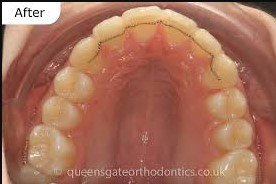UL1BC_healthy: (209, 90, 246, 120)
UL1M_healthy: (214, 152, 259, 184)
UL2BC_healthy: (215, 119, 255, 150)
ULCI_decay: (164, 9, 195, 51)
ULC_decay: (208, 57, 240, 90)
ULLI_decay: (195, 29, 221, 57)
UR1BC_healthy: (53, 68, 98, 103)
UR1M_healthy: (28, 125, 78, 175)
UR2BC_healthy: (42, 97, 86, 130)
URCI_decay: (122, 6, 162, 49)
URC_decay: (69, 38, 105, 74)
URLI_decay: (95, 17, 127, 49)
